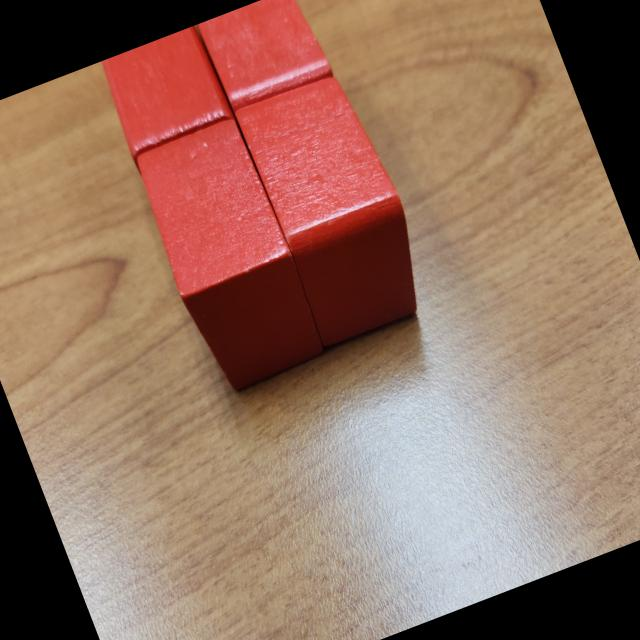red: (232, 64, 444, 354), (128, 116, 332, 404), (91, 23, 244, 182), (196, 0, 334, 115)
